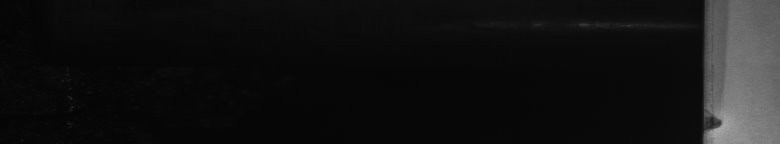hb: (712, 115, 724, 132)
